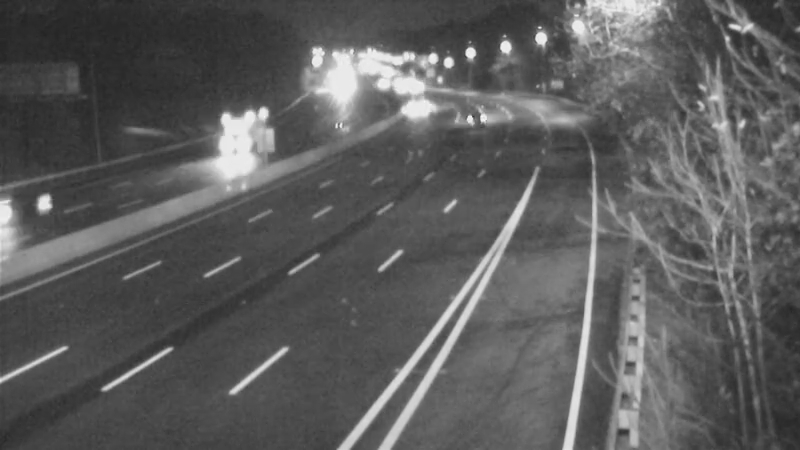vehicle: (1, 162, 68, 242), (383, 82, 433, 132), (440, 90, 490, 140), (209, 111, 259, 161)
